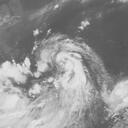cyclone: (40, 36, 100, 114)
